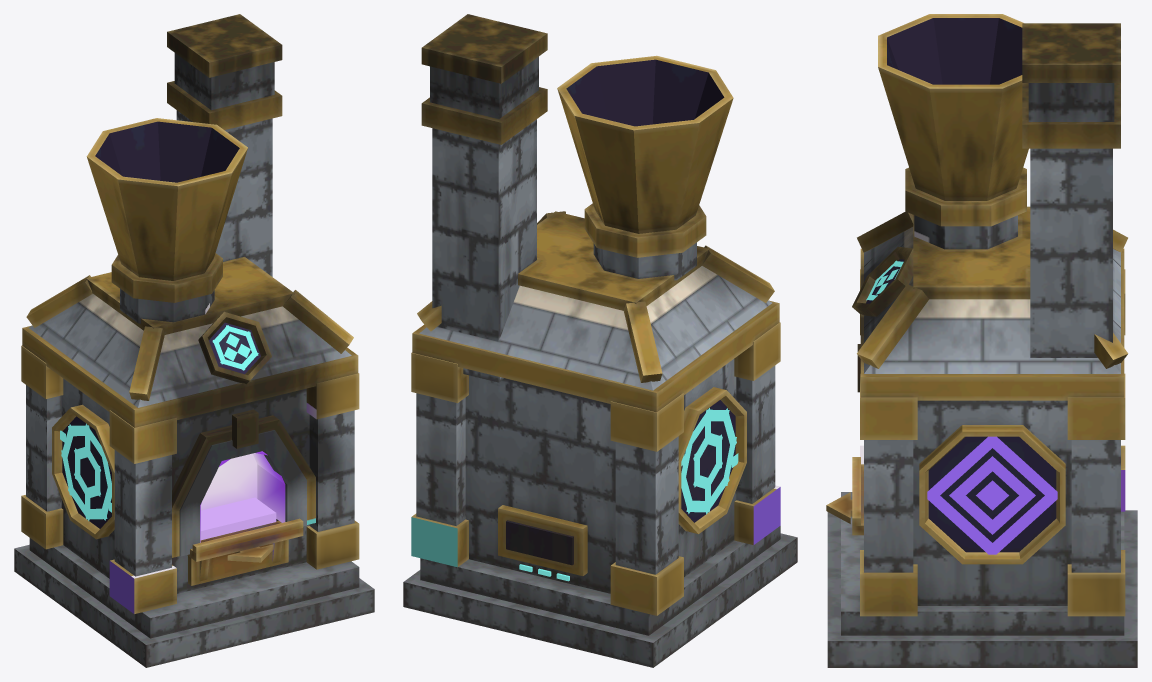
The model's file is arcane_forge_low.glb.
3 renders of one model, left to right at view 1: azimuth 30°, elevation 25°; view 2: azimuth 150°, elevation 25°; view 3: azimuth 270°, elevation 25°, orthographic. The views are drawn at different scales.
Visible parts, largest first — view 1: forge_body, glow_mouth, glow_runes; view 2: forge_body, glow_runes; view 3: forge_body, glow_runes.
Part boxes in pixels (x1,y1,x2,y2): forge_body: [14, 14, 374, 667]; glow_mouth: [200, 451, 285, 542]; glow_runes: [60, 325, 258, 520]; forge_body: [403, 14, 797, 667]; glow_runes: [519, 408, 738, 581]; forge_body: [826, 14, 1137, 667]; glow_runes: [866, 260, 1057, 554].
Size of the model in its own units: 0.94 by 2 by 0.944.
4 materials, 4 textured.
